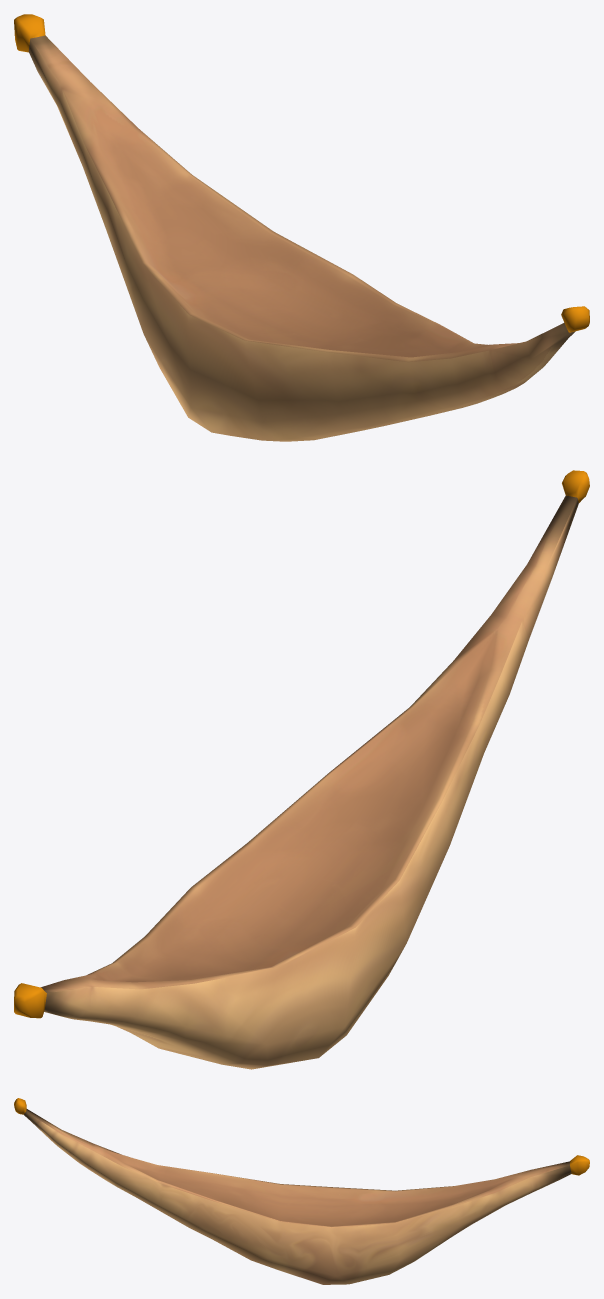
File: Solar_Barge_01.fbx
3 views of the same model, one above another, from view 1: azimuth 30°, elevation 25°; view 2: azimuth 150°, elevation 25°; view 3: azimuth 270°, elevation 25° (orthographic). The views are drawn at different scales.
Parts seen in each view (by area): view 1: Solar_Barge_01; view 2: Solar_Barge_01; view 3: Solar_Barge_01.
Boxes of the visible parts, x1=… form: Solar_Barge_01: x1=14, y1=14, x2=589, y2=441; Solar_Barge_01: x1=14, y1=470, x2=589, y2=1069; Solar_Barge_01: x1=14, y1=1098, x2=589, y2=1284.
Bounding box in the file's own units: 202 × 397 × 1195.
Materials: 2 (1 with a texture image).
